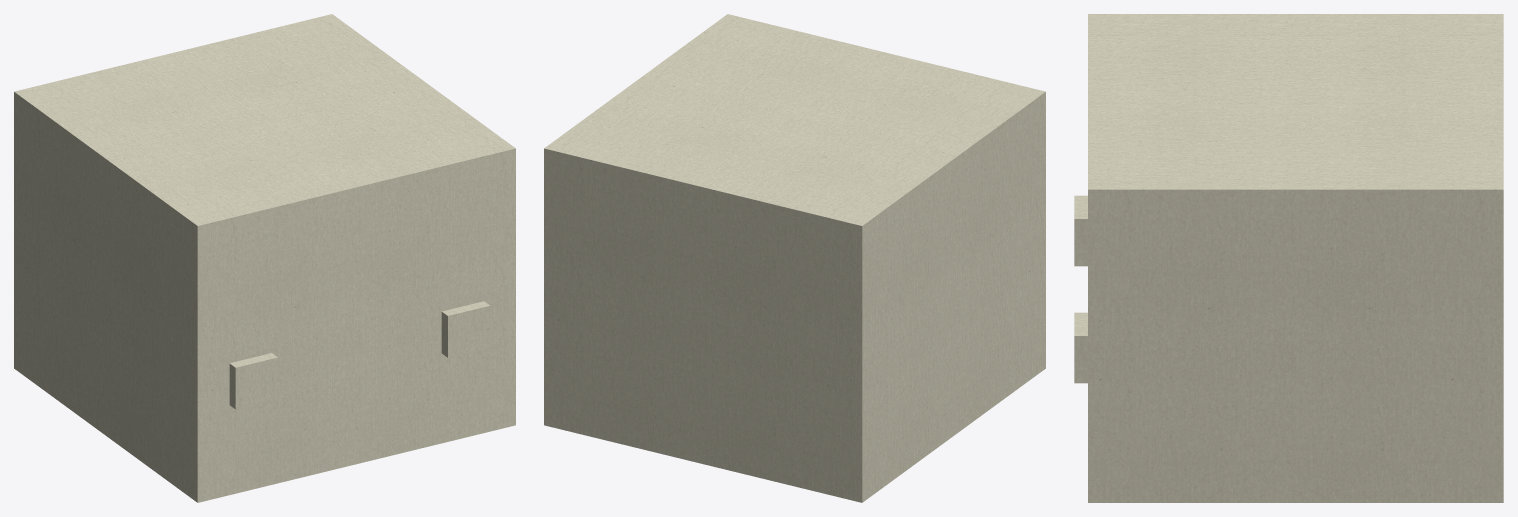
Rendered from roomEmpty 1.FBX.
3 views of the same model, side by side, from view 1: azimuth 30°, elevation 25°; view 2: azimuth 150°, elevation 25°; view 3: azimuth 270°, elevation 25° (orthographic). The views are drawn at different scales.
Visible parts, largest first — view 1: room; view 2: room; view 3: room.
Boxes of the visible parts, left/top/right/bottom form: room: left=14, top=14, right=515, bottom=502; room: left=544, top=14, right=1045, bottom=502; room: left=1074, top=14, right=1503, bottom=502.
Bounding box in the file's own units: 304 × 252 × 314.
Materials: 2 (2 with a texture image).
